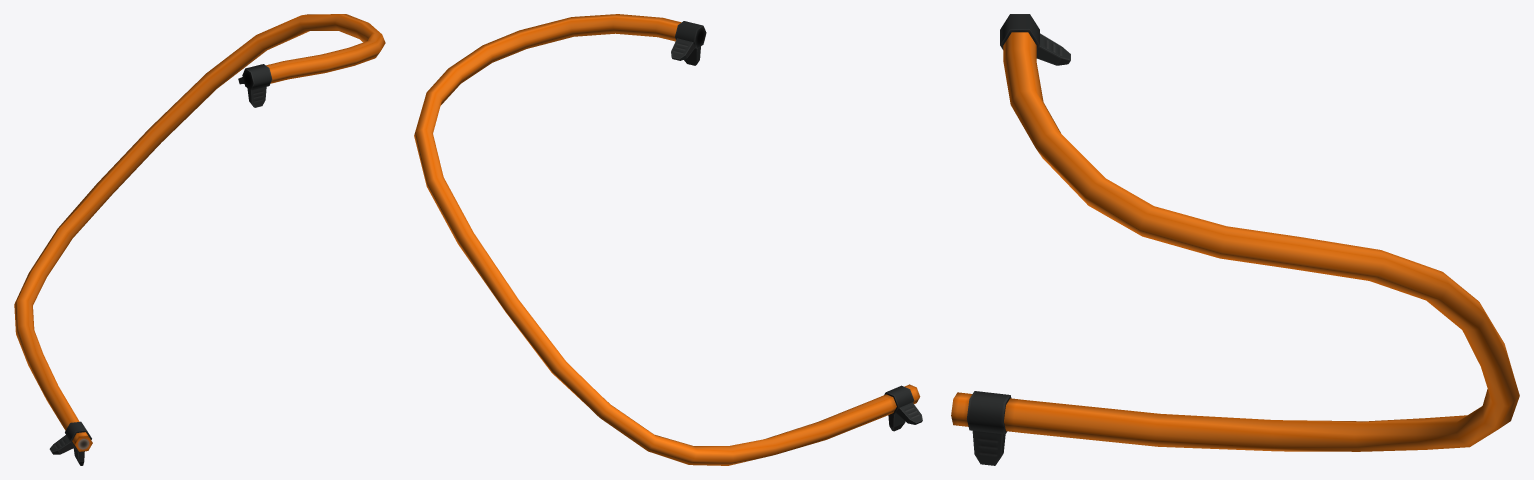
Rendered from jsf_GasRange_10c.fbx.
The picture shows the model from 3 angles, left to right: view 1: azimuth 30°, elevation 25°; view 2: azimuth 150°, elevation 25°; view 3: azimuth 270°, elevation 25°; orthographic projection. The views are drawn at different scales.
Parts seen in each view (by area): view 1: GasHose; view 2: GasHose; view 3: GasHose.
Part boxes in pixels (box(x1,y1,x2,y2)): GasHose: box(14, 14, 385, 465); GasHose: box(414, 14, 922, 465); GasHose: box(951, 14, 1519, 465).
Size of the model in its own units: 41.52 by 35.36 by 30.36.
